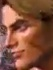kevin: (0, 3, 51, 67)
